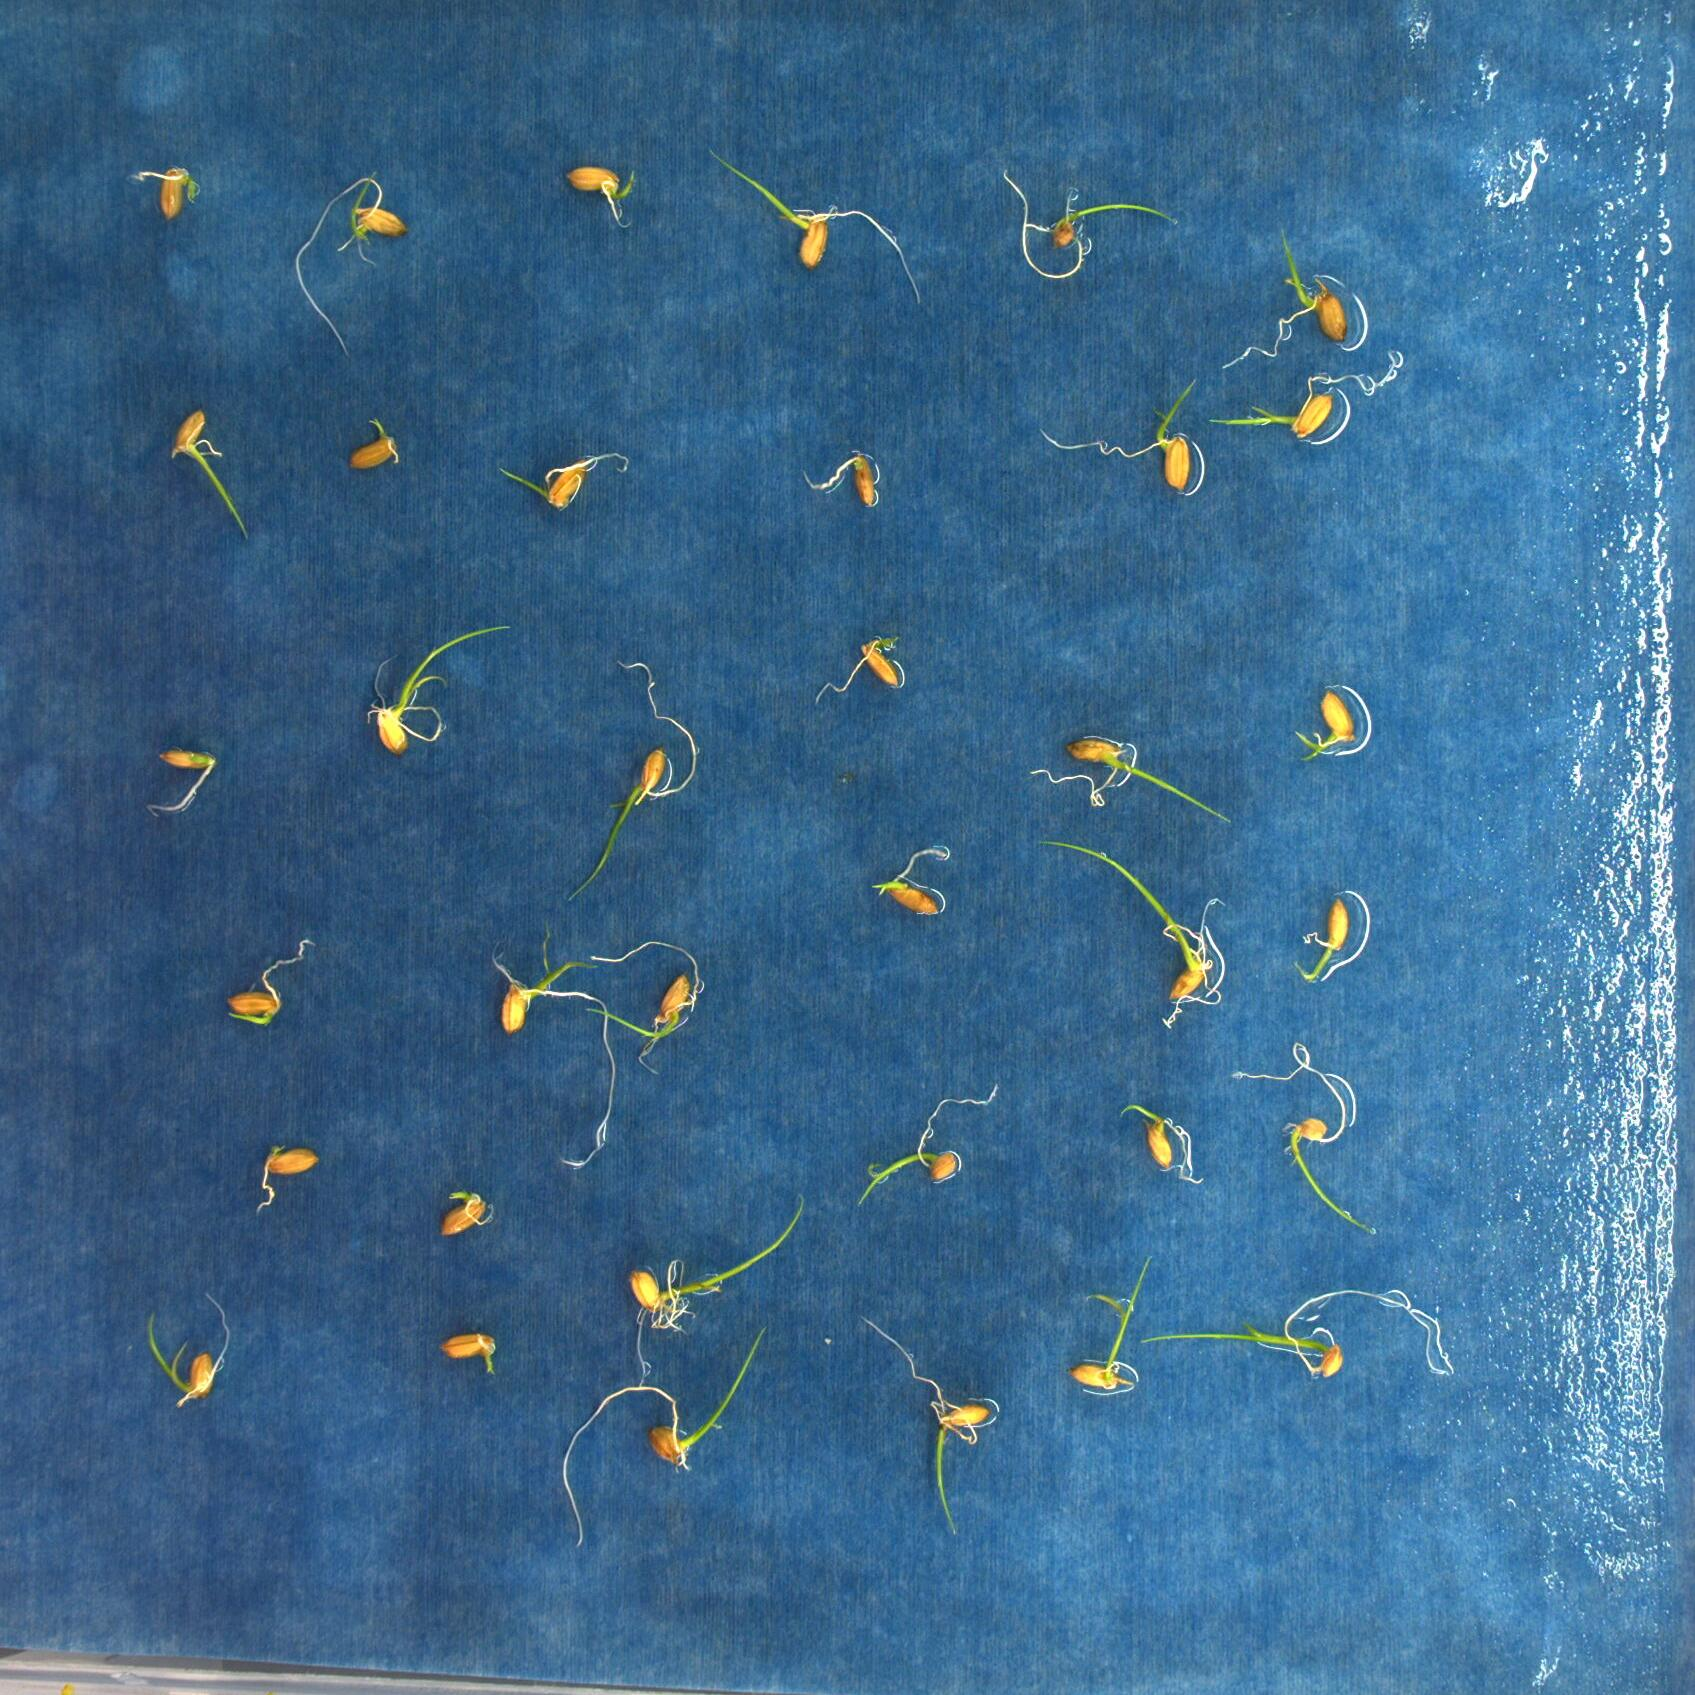not sprout: (806, 636, 905, 709), (140, 747, 214, 820), (799, 449, 882, 511), (251, 1142, 317, 1215), (439, 1329, 500, 1378), (435, 1191, 492, 1239)
sprout: (557, 1322, 775, 1551), (700, 140, 931, 312), (1035, 834, 1229, 1029), (627, 1192, 809, 1388), (560, 941, 709, 1177), (565, 657, 703, 906), (1136, 1284, 1464, 1383), (855, 1310, 987, 1538), (1229, 1040, 1383, 1236), (290, 169, 408, 362), (998, 163, 1183, 286), (363, 619, 514, 756), (1029, 733, 1234, 830), (852, 1077, 1003, 1209), (1222, 220, 1350, 374), (1035, 376, 1200, 494), (1208, 352, 1405, 447), (165, 405, 255, 546), (1073, 1250, 1158, 1392), (494, 925, 598, 1038), (140, 1301, 237, 1406), (497, 447, 629, 515), (225, 936, 312, 1028), (1114, 1097, 1201, 1187), (869, 830, 945, 924), (1291, 893, 1352, 989), (563, 160, 640, 231), (1291, 689, 1358, 767), (132, 165, 205, 220), (345, 416, 405, 472)
